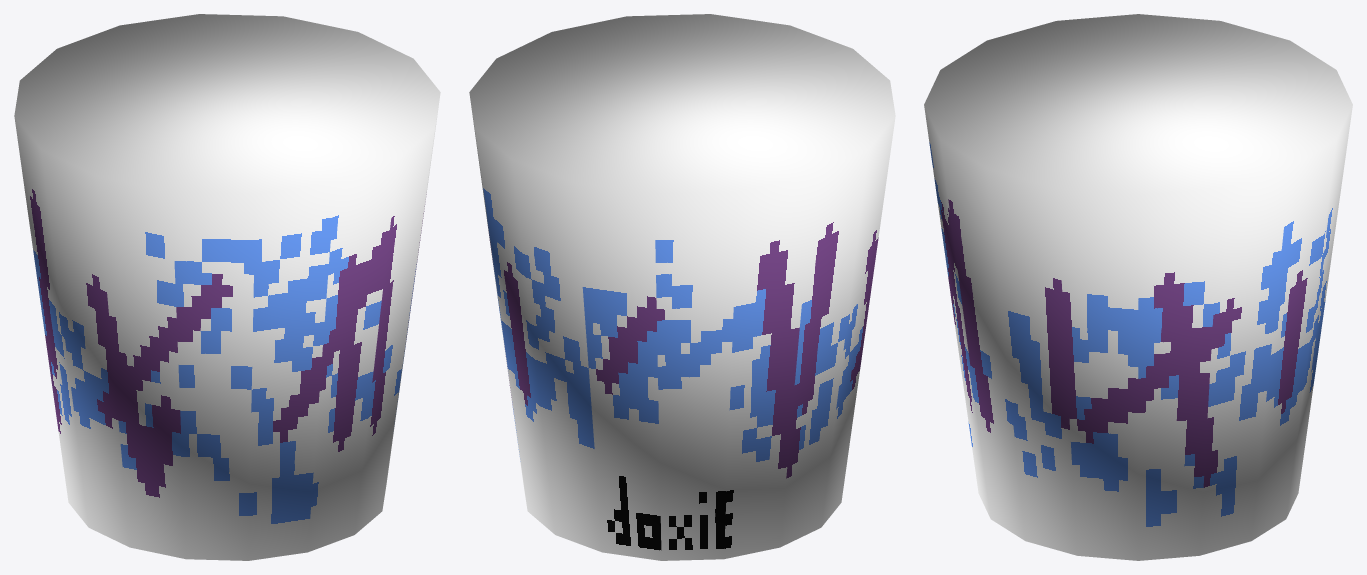
The model's file is doxie.gltf.
3 renders of one model, left to right at view 1: azimuth 30°, elevation 25°; view 2: azimuth 150°, elevation 25°; view 3: azimuth 270°, elevation 25°, orthographic.
Visible parts, largest first — view 1: Cylinder; view 2: Cylinder; view 3: Cylinder.
Part boxes in pixels (left/top/right/bottom): Cylinder: left=14, top=14, right=440, bottom=560; Cylinder: left=469, top=14, right=895, bottom=560; Cylinder: left=924, top=14, right=1352, bottom=560.
Bounding box in the file's own units: 0.0695 × 0.0695 × 0.0695.
1 material, 1 textured.
